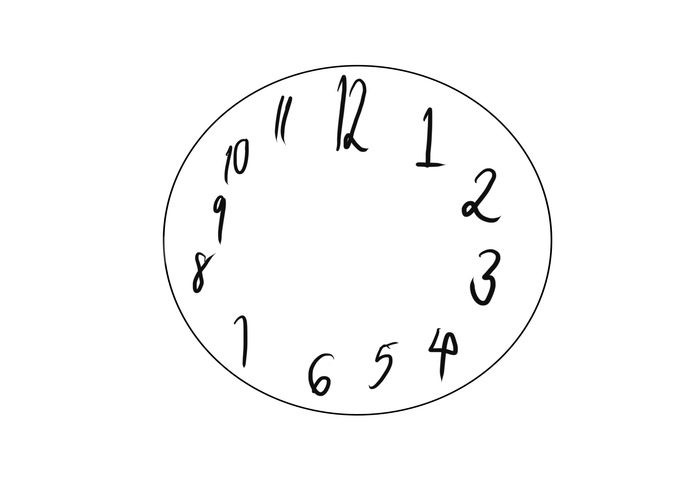eight: (185, 242, 219, 294)
eleven: (272, 95, 297, 146)
five: (372, 336, 398, 388)
four: (426, 328, 462, 381)
nine: (204, 185, 232, 245)
one: (418, 104, 447, 175), (231, 312, 258, 370)
six: (303, 348, 344, 399)
ten: (215, 138, 253, 181)
three: (458, 244, 505, 311)
twelve: (333, 74, 371, 165)
two: (462, 155, 499, 235)
